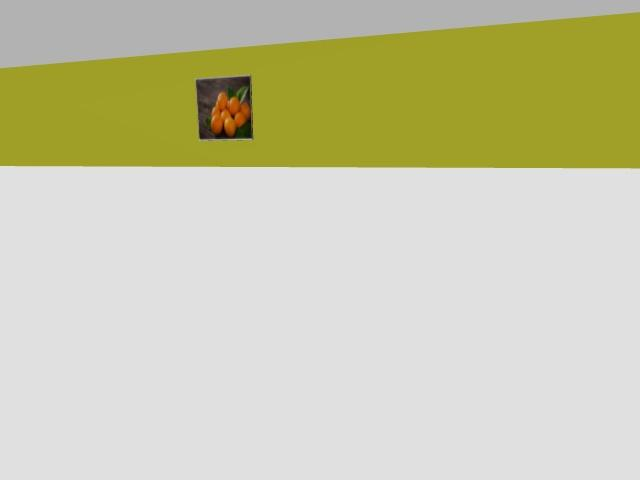orange: (210, 114, 222, 134), (228, 96, 239, 117), (224, 117, 235, 136), (216, 92, 227, 110), (234, 112, 246, 127), (240, 102, 250, 119), (221, 109, 230, 120), (212, 106, 219, 116)
